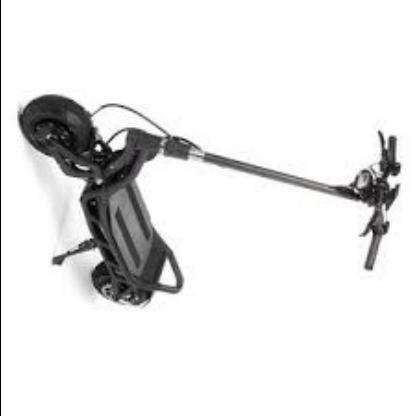bike: (19, 94, 410, 308)
